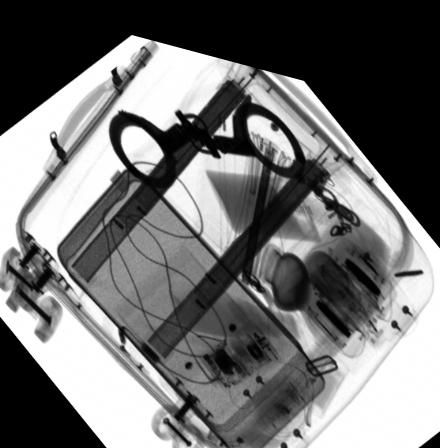HandCuffs: (105, 76, 307, 181)
